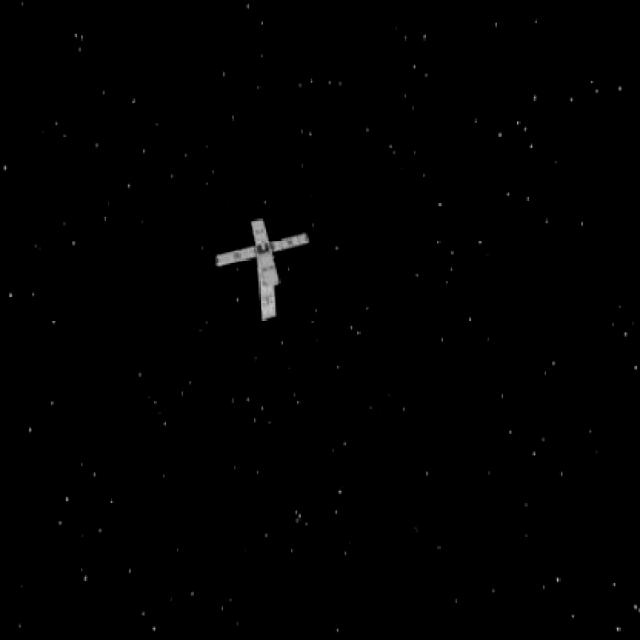satellite: (212, 206, 310, 325)
